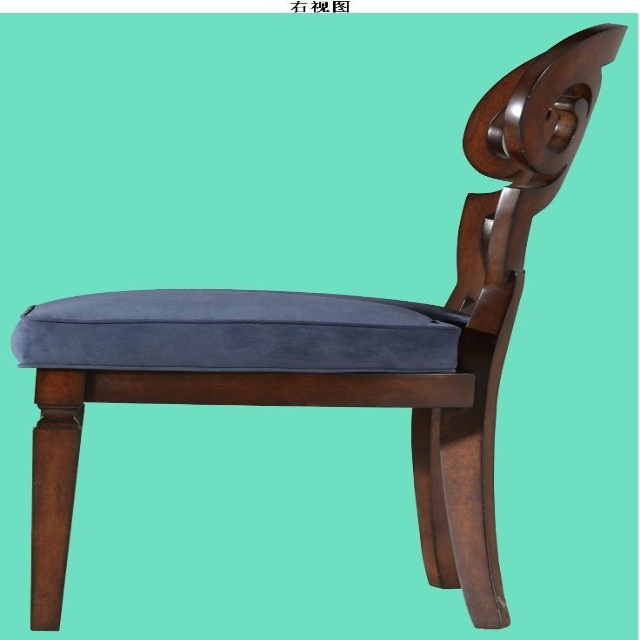obstacle: (2, 14, 637, 639)
